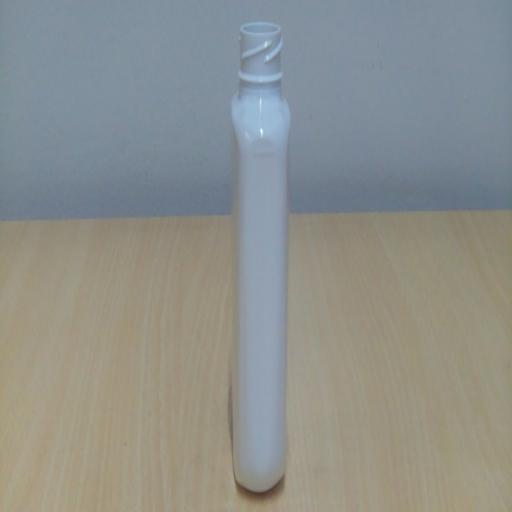Bad: (220, 10, 302, 507)
